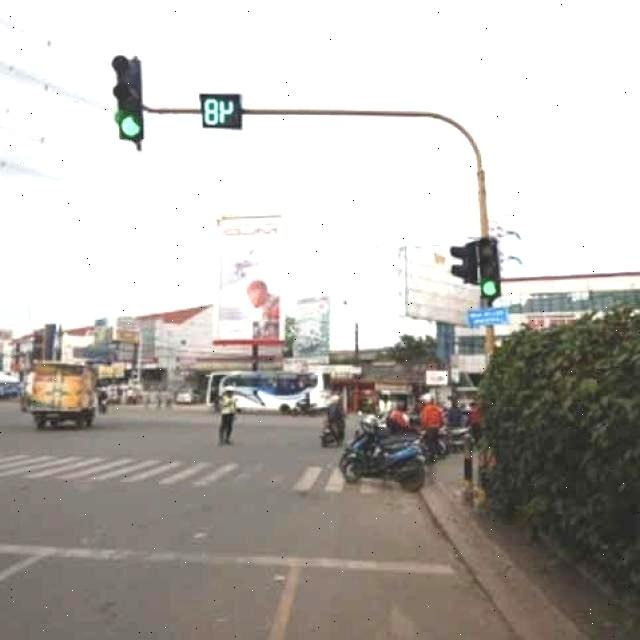Green: (430, 225, 534, 332), (82, 47, 164, 168), (187, 78, 258, 148)
